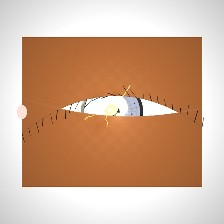corneal_ulcer: (75, 86, 129, 129)
